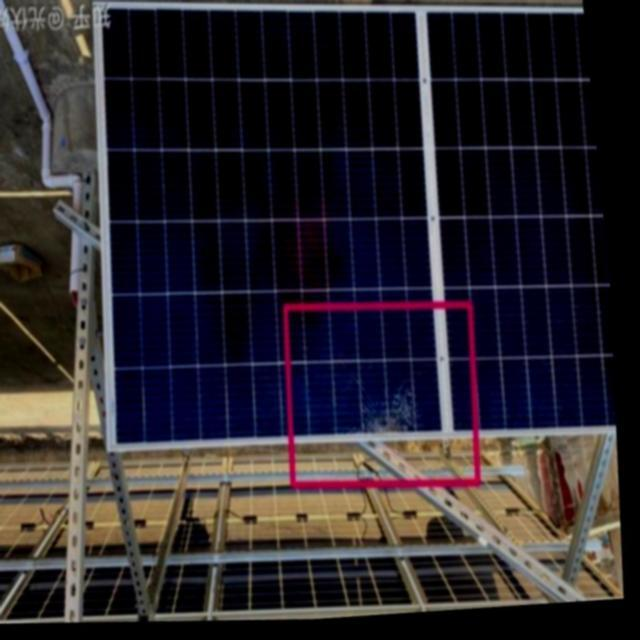cracked: (332, 357, 420, 439)
